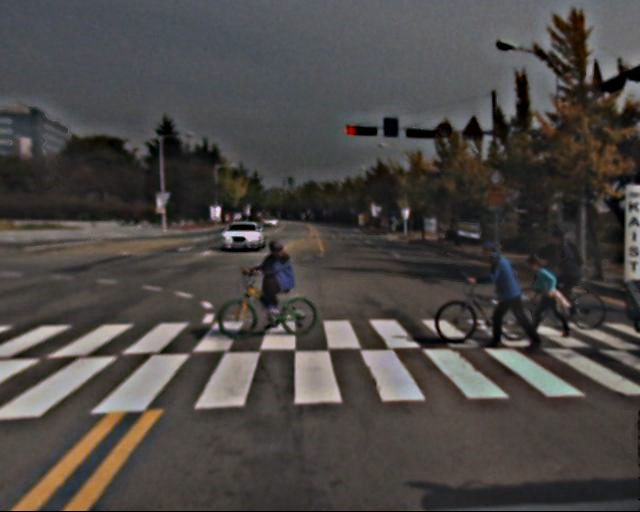person: (483, 240, 530, 355), (549, 229, 590, 317), (261, 240, 301, 326), (531, 256, 566, 338)
